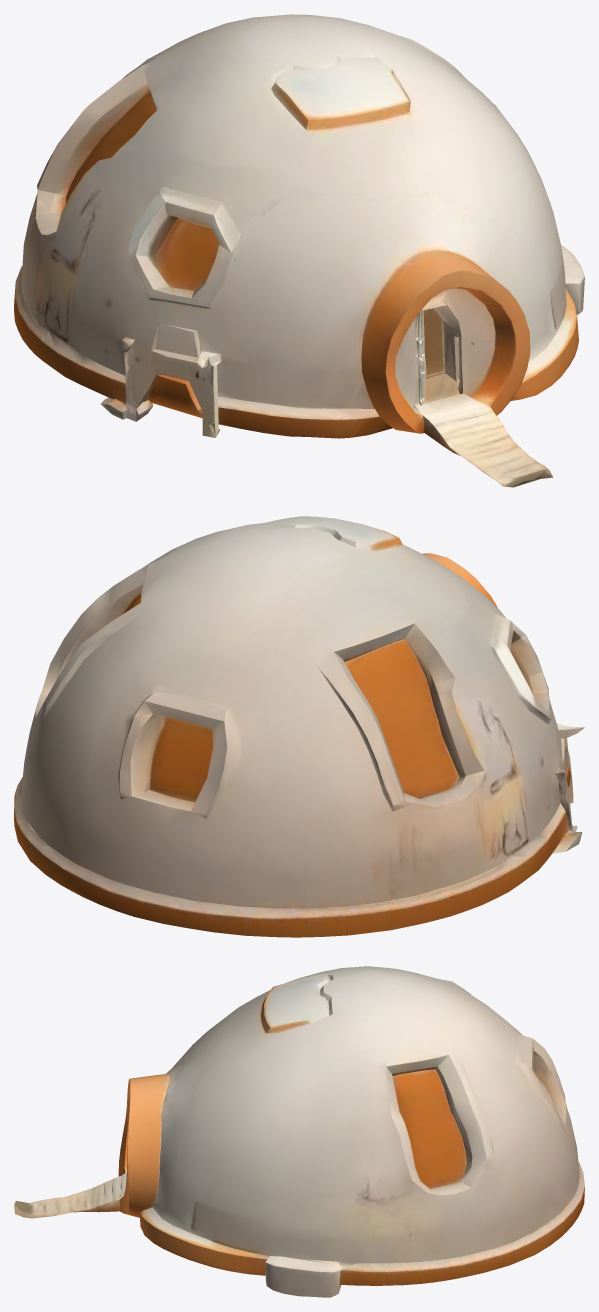
The model's file is marsBase.glb.
3 views of the same model, one above another, from view 1: azimuth 30°, elevation 25°; view 2: azimuth 150°, elevation 25°; view 3: azimuth 270°, elevation 25° (orthographic). The views are drawn at different scales.
Visible parts, largest first — view 1: model; view 2: model; view 3: model.
Boxes of the visible parts, <box> form: model: <box>14,14,584,487</box>; model: <box>14,516,584,937</box>; model: <box>14,966,584,1297</box>.
Bounding box in the file's own units: 1.44 × 0.813 × 1.89.
Materials: 1 (1 with a texture image).
